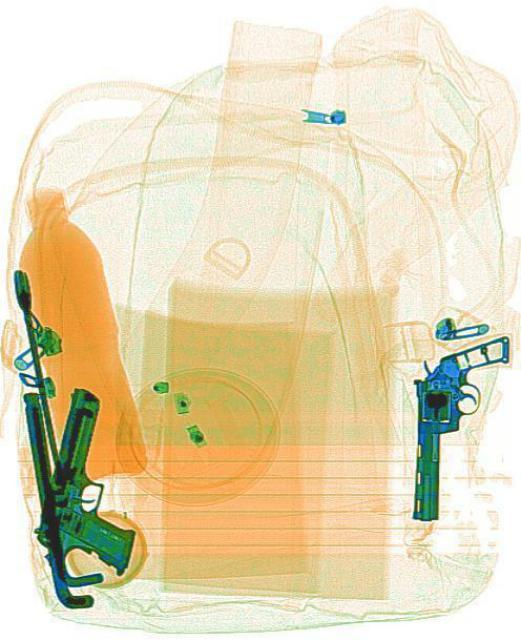Gun: (26, 383, 170, 583), (408, 332, 509, 520)
